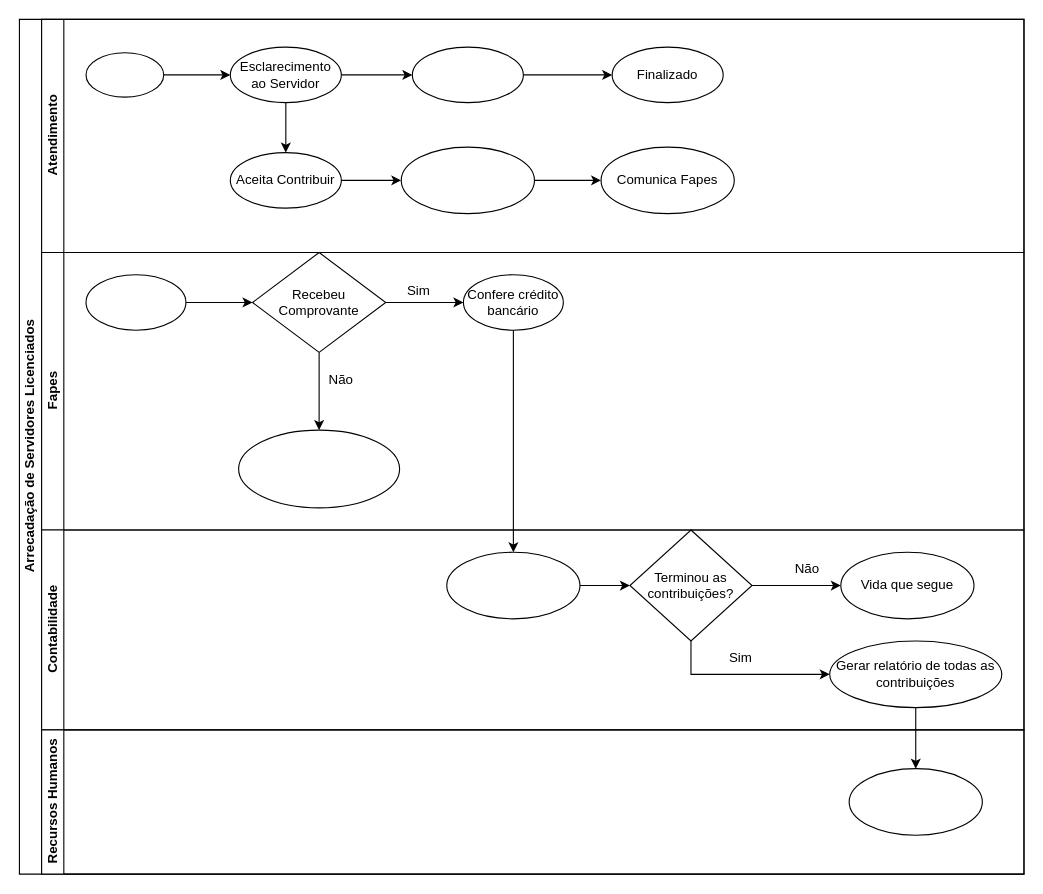
This 1043x894 diagram has some shape labels left out. Each missing label, with the centre of its shape:
"Abre Protocolo e Assina Termo de Opção" goes at [467,180].
"Aceita não contribuir" goes at [467,74].
"Arquiva na pasta funcional" goes at [915,801].
"Inicio" goes at [124,74].
"Mensalmente" goes at [135,302].
"Realiza registros contábeis do mês" goes at [513,585].
"Verificar Atraso e agendar pagamento" goes at [319,468].
